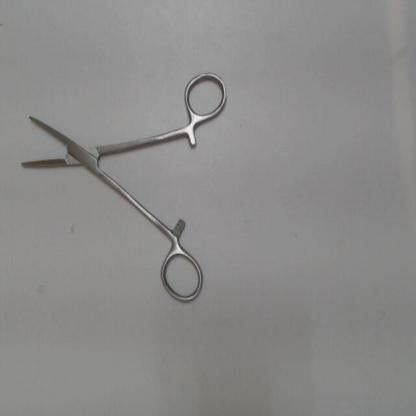Mayo Needle Holder: (13, 67, 236, 309)
